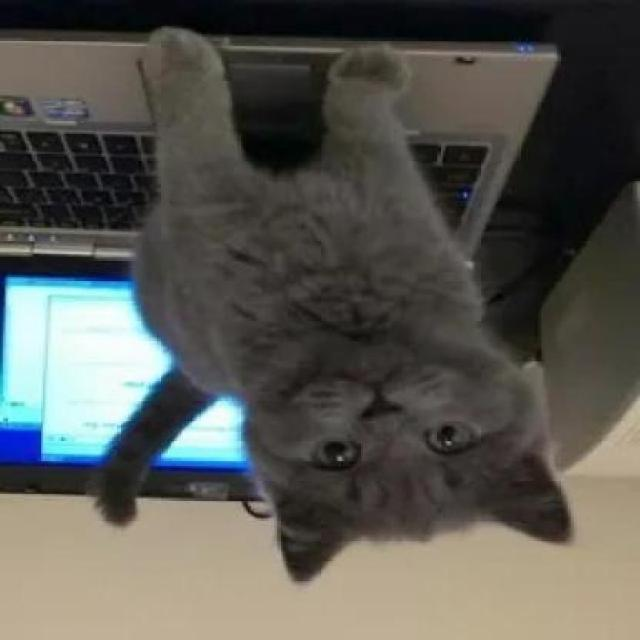cat: (23, 25, 594, 580)
